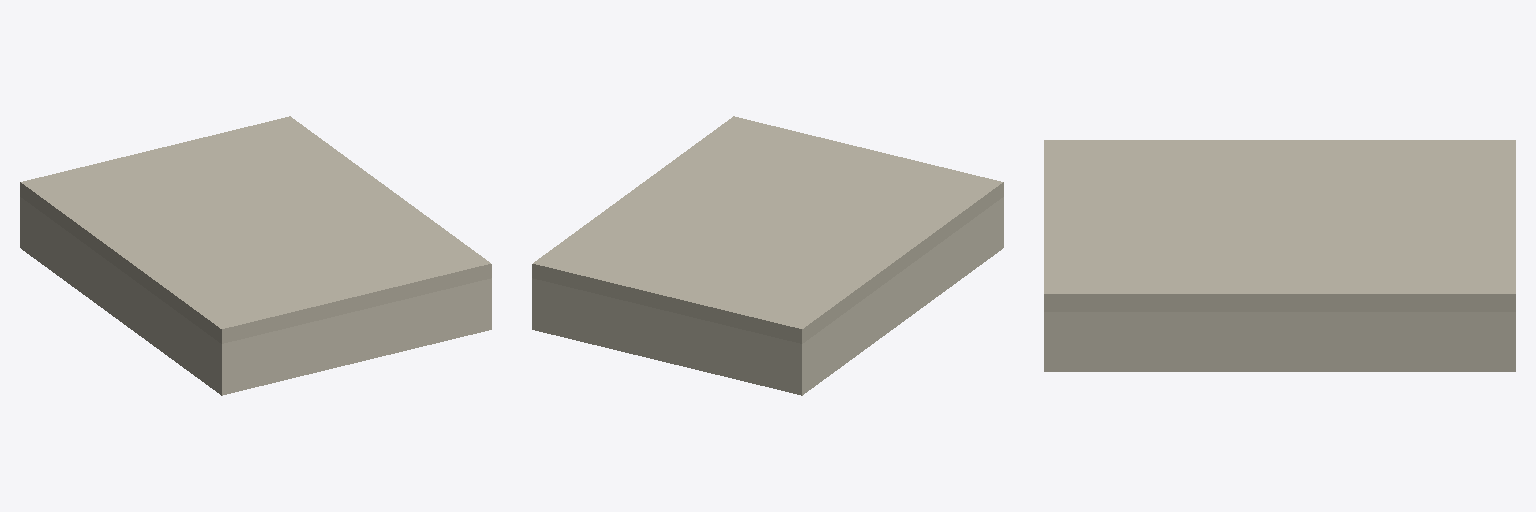
The robot description file, URDF, robot "dell_laptop":
<?xml version="1.0"?>
<robot name="dell_laptop">
  <material name="beige">
    <color rgba="0.82 0.80 0.74 1.0"/>
  </material>
  <material name="beige_dark">
    <color rgba="0.78 0.76 0.70 1.0"/>
  </material>
  <material name="black">
    <color rgba="0.05 0.05 0.06 1.0"/>
  </material>
  <material name="grey_dark">
    <color rgba="0.2 0.2 0.2 1.0"/>
  </material>

  <!-- Base / keyboard body. x forward (depth), y left (width), z up -->
  <link name="base_link">
    <inertial>
      <origin xyz="0 0 0" rpy="0 0 0"/>
      <mass value="2.2"/>
      <inertia ixx="0.016495" ixy="0" ixz="0" iyy="0.010022" iyz="0" izz="0.02587"/>
    </inertial>
    <visual>
      <origin xyz="0 0 0" rpy="0 0 0"/>
      <geometry>
        <box size="0.23 0.297 0.042"/>
      </geometry>
      <material name="beige"/>
    </visual>
    <visual>
      <!-- keyboard inset on top face -->
      <origin xyz="0.02 0 0.0215" rpy="0 0 0"/>
      <geometry>
        <box size="0.17 0.26 0.002"/>
      </geometry>
      <material name="grey_dark"/>
    </visual>
    <collision>
      <origin xyz="0 0 0" rpy="0 0 0"/>
      <geometry>
        <box size="0.23 0.297 0.042"/>
      </geometry>
    </collision>
  </link>

  <!-- Lid / display. Origin at hinge, geometry offset forward so 0 = closed -->
  <link name="display_link">
    <inertial>
      <origin xyz="0.115 0 0.006" rpy="0 0 0"/>
      <mass value="0.6"/>
      <inertia ixx="0.004418" ixy="0" ixz="0" iyy="0.002652" iyz="0" izz="0.007055"/>
    </inertial>
    <visual>
      <origin xyz="0.115 0 0.006" rpy="0 0 0"/>
      <geometry>
        <box size="0.23 0.297 0.012"/>
      </geometry>
      <material name="beige_dark"/>
    </visual>
    <visual>
      <!-- black LCD on inner face (faces -z when closed, +x when open) -->
      <origin xyz="0.115 0 0.001" rpy="0 0 0"/>
      <geometry>
        <box size="0.19 0.26 0.002"/>
      </geometry>
      <material name="black"/>
    </visual>
    <collision>
      <origin xyz="0.115 0 0.006" rpy="0 0 0"/>
      <geometry>
        <box size="0.23 0.297 0.012"/>
      </geometry>
    </collision>
  </link>

  <joint name="lid_hinge" type="revolute">
    <parent link="base_link"/>
    <child link="display_link"/>
    <origin xyz="-0.115 0 0.021" rpy="0 0 0"/>
    <axis xyz="0 1 0"/>
    <limit lower="-1.9" upper="0" effort="10" velocity="2.0"/>
    <dynamics damping="0.1" friction="0.1"/>
  </joint>
</robot>

--- Facts derived from the render (not from the file) ---
The picture shows the robot from 3 angles, left to right: view 1: azimuth 30°, elevation 25°; view 2: azimuth 150°, elevation 25°; view 3: azimuth 270°, elevation 25°; orthographic projection.
Robot: dell_laptop — 2 links, 1 joints (1 revolute); root link base_link; default pose: all joints at 0.
Visible links, largest first — view 1: display_link, base_link; view 2: display_link, base_link; view 3: display_link, base_link.
Boxes of the visible links, x1,y1,x2,y2 form: display_link: [20, 116, 491, 343]; base_link: [20, 197, 491, 395]; display_link: [532, 116, 1003, 343]; base_link: [532, 197, 1003, 395]; display_link: [1044, 140, 1515, 311]; base_link: [1044, 312, 1515, 371].
Size in the robot's own frame: 0.23 by 0.297 by 0.054 metres.
Geometry: primitives only (box / cylinder / sphere), no mesh files.
